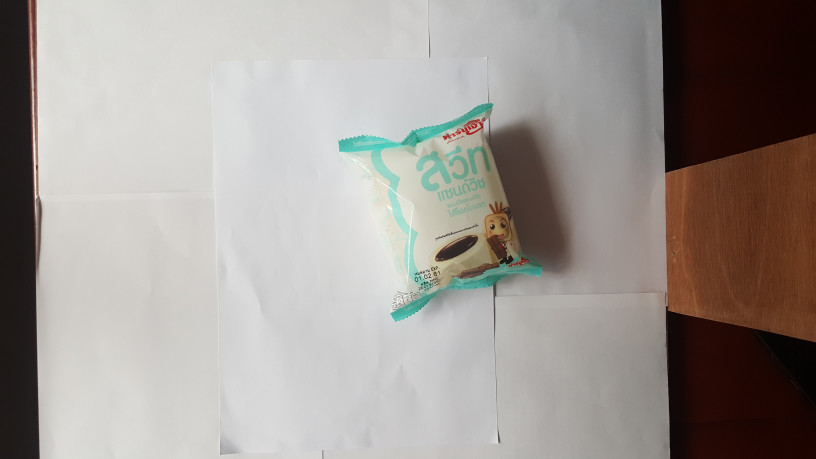farmhouse-sweetsandwich-chocolate: (335, 101, 549, 325)
